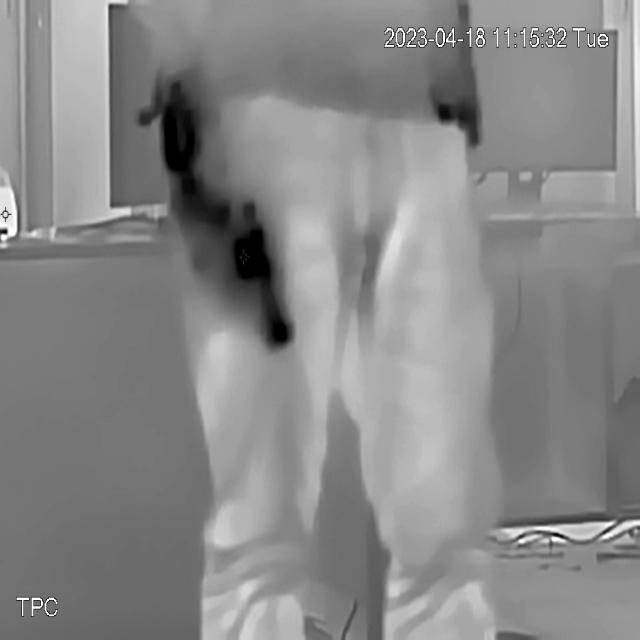Weapon: (179, 189, 314, 375)
